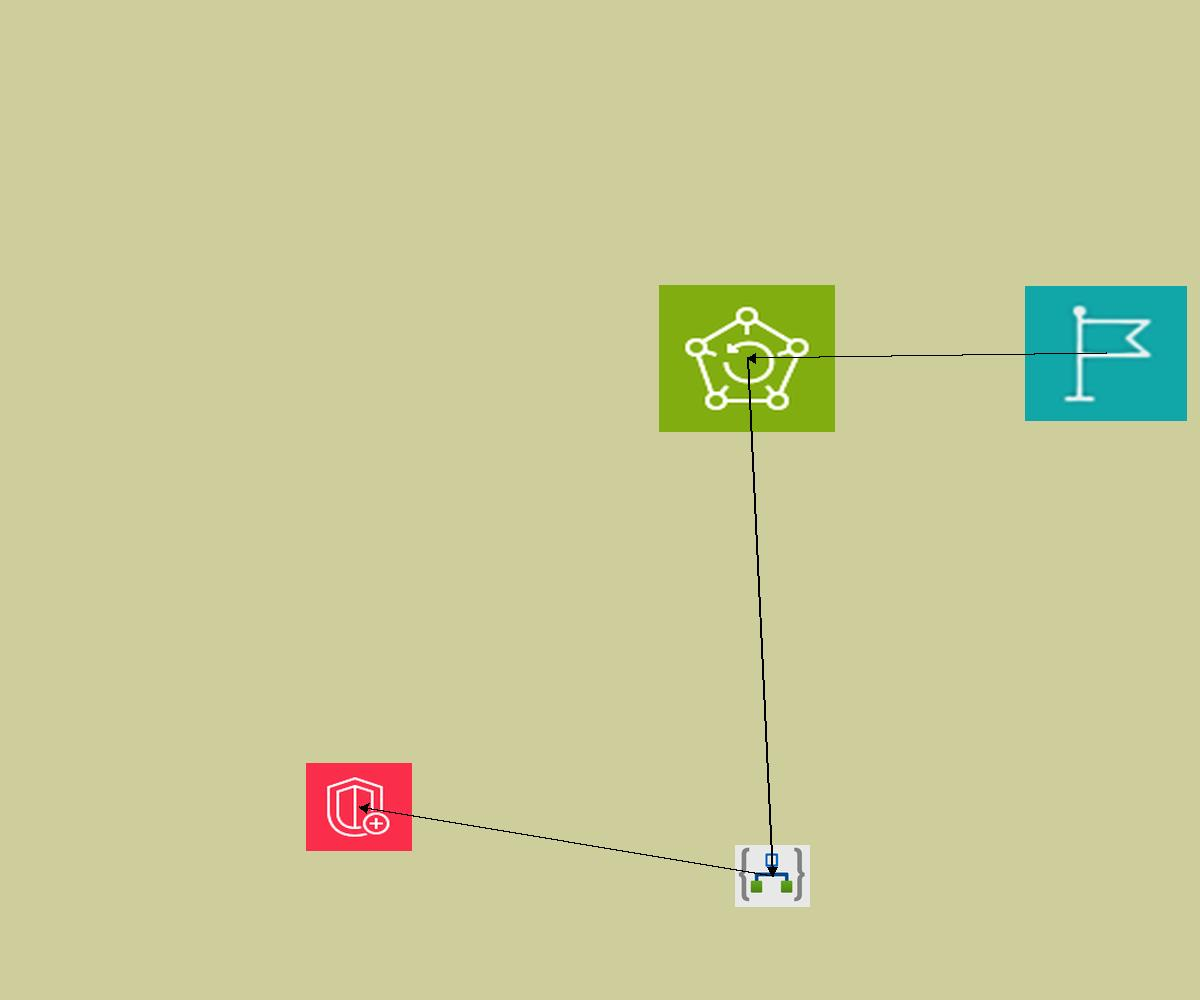AWS-Backup: (659, 285, 835, 432)
AWS-Region: (1025, 286, 1187, 421)
AWS-Shield: (306, 763, 412, 851)
Azure_integration-204-Logic-Apps: (735, 845, 810, 907)
